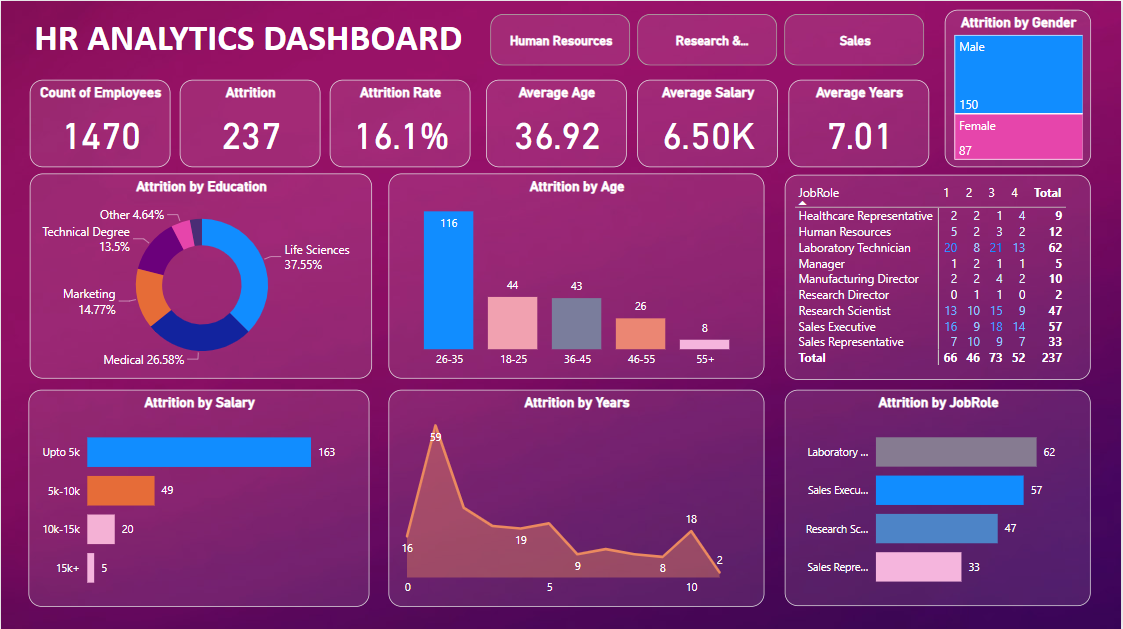

This screenshot's page, from the dashboard's own definition file:
{"tool":"powerbi","page":{"name":"Page 1","canvas":[1280,720],"ordinal":0},"visuals":[{"type":"card","title":"Count of Employees","fields":{"Values":["Sum(HR_Analytics.EmployeeCount)"]},"box":[32.9,90.6,160.5,100.2],"z":0},{"type":"card","title":"Attrition","fields":{"Values":["Sum(HR_Analytics.AttritionCount)"]},"box":[204.5,90.6,160.5,100.2],"z":1000},{"type":"card","title":"Attrition Rate","fields":{"Values":["HR_Analytics.AttritionRate"]},"box":[376,90.6,160.5,100.2],"z":2000},{"type":"card","title":"Average Age","fields":{"Values":["Avg(HR_Analytics.Age)"]},"box":[554.4,90.6,160.5,100.2],"z":3000},{"type":"card","title":"Average Salary","fields":{"Values":["Avg(HR_Analytics.MonthlyIncome)"]},"box":[727.3,90.6,160.5,100.2],"z":4000},{"type":"card","title":"Average Years","fields":{"Values":["Avg(HR_Analytics.YearsAtCompany)"]},"box":[900.2,90.6,160.5,100.2],"z":5000},{"type":"donutChart","title":"Attrition by Education","fields":{"Y":["Sum(HR_Analytics.AttritionCount)"],"Category":["HR_Analytics.EducationField"]},"box":[32.9,197.6,391.1,234.6],"z":6000},{"type":"columnChart","title":"Attrition by Age","fields":{"Category":["HR_Analytics.AgeGroup"],"Y":["Sum(HR_Analytics.AttritionCount)"]},"box":[443.2,197.6,429.5,234.6],"z":7000},{"type":"pivotTable","fields":{"Rows":["HR_Analytics.JobRole"],"Columns":["HR_Analytics.JobSatisfaction"],"Values":["Sum(HR_Analytics.AttritionCount)"]},"box":[896.1,199,349.9,234.6],"z":8000},{"type":"barChart","title":"Attrition by Salary","fields":{"Category":["HR_Analytics.SalarySlab"],"Y":["Sum(HR_Analytics.AttritionCount)"]},"box":[31.6,444.6,389.7,248.4],"z":9000},{"type":"barChart","title":"Attrition by JobRole","fields":{"Y":["Sum(HR_Analytics.AttritionCount)"],"Category":["HR_Analytics.JobRole"]},"box":[896.1,444.6,349.9,247],"z":10000},{"type":"areaChart","title":"Attrition by Years","fields":{"Y":["Sum(HR_Analytics.AttritionCount)"],"Category":["HR_Analytics.YearsAtCompany"]},"box":[443.2,444.6,429.5,248.4],"z":11000},{"type":"treemap","title":"Attrition by Gender","fields":{"Group":["HR_Analytics.Gender"],"Values":["Sum(HR_Analytics.AttritionCount)"]},"box":[1078.6,10,167.1,180],"z":12000},{"type":"textbox","box":[32.9,9.6,521.4,70],"z":13000},{"type":"advancedSlicerVisual","fields":{"Values":["HR_Analytics.Department"]},"box":[554.4,9.6,506.3,70],"z":14000}]}

Visuals, with their boxes in screenshot pixels (x1, y1, x2, y2), scaled from the page's 1280x720 canvas onto the 1123x629 screenshot:
"Count of Employees" card: (29, 79, 170, 167)
"Attrition" card: (179, 79, 320, 167)
"Attrition Rate" card: (330, 79, 471, 167)
"Average Age" card: (486, 79, 627, 167)
"Average Salary" card: (638, 79, 779, 167)
"Average Years" card: (790, 79, 931, 167)
"Attrition by Education" donutChart: (29, 173, 372, 378)
"Attrition by Age" columnChart: (389, 173, 766, 378)
pivotTable - HR_Analytics.JobRole x HR_Analytics.JobSatisfaction: (786, 174, 1093, 379)
"Attrition by Salary" barChart: (28, 388, 370, 605)
"Attrition by JobRole" barChart: (786, 388, 1093, 604)
"Attrition by Years" areaChart: (389, 388, 766, 605)
"Attrition by Gender" treemap: (946, 9, 1093, 166)
textbox: (29, 8, 486, 70)
advancedSlicerVisual - HR_Analytics.Department: (486, 8, 931, 70)
